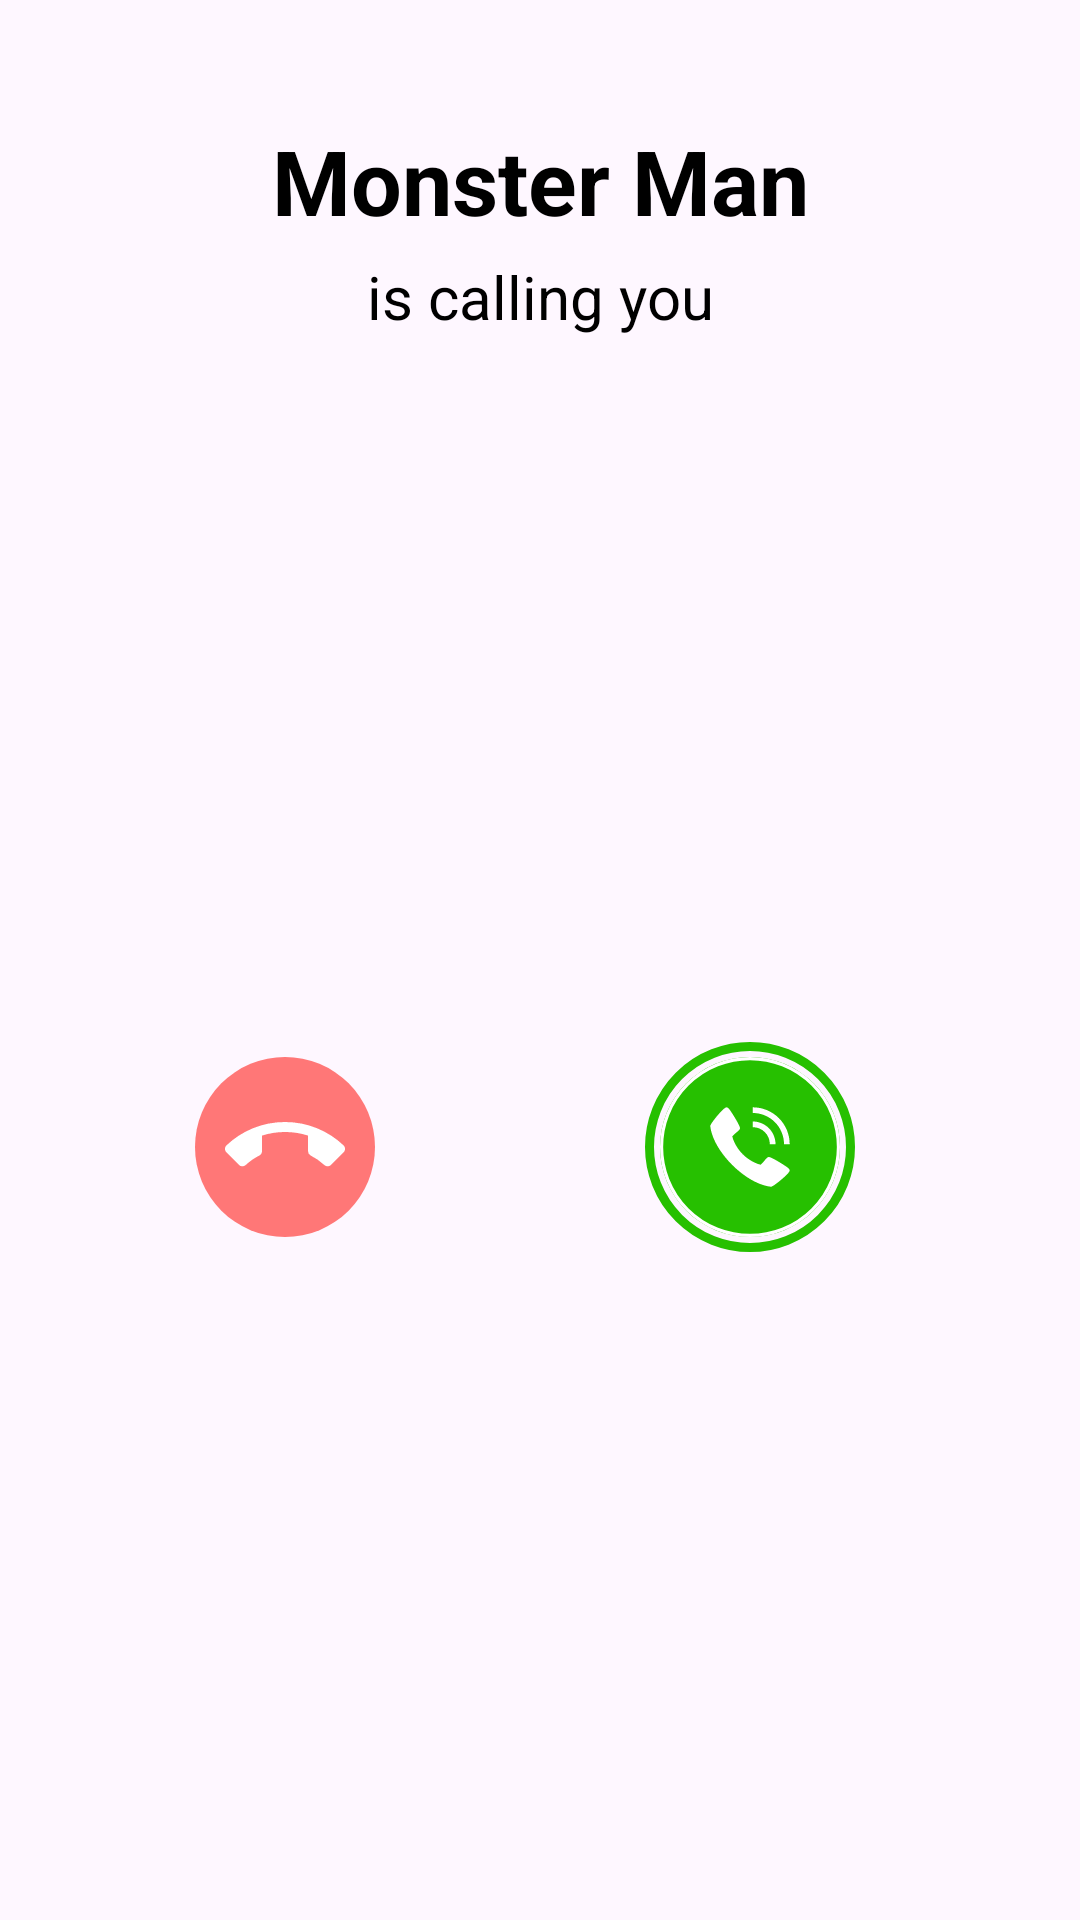

Named icons in this screenshot (1080w x 1920h) and their bounding boxes, (x1, y1, x2, y2):
call: (645, 1042, 855, 1252)
end call: (195, 1057, 375, 1237)
